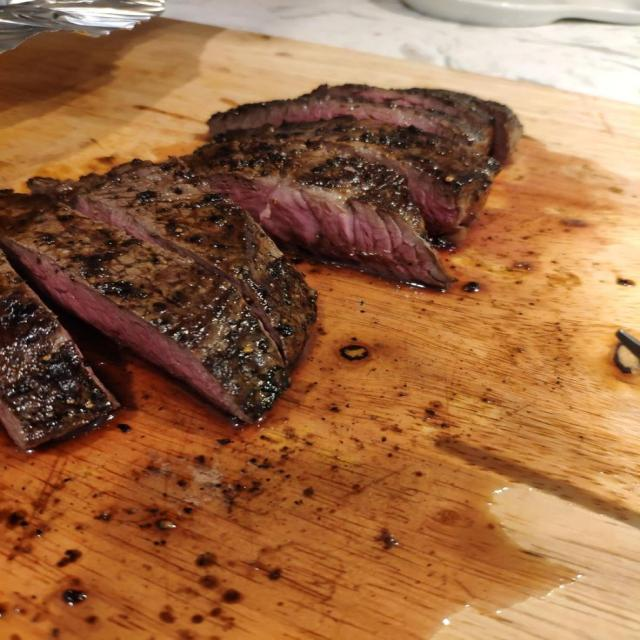beef steak: (0, 192, 288, 421), (30, 159, 316, 369), (183, 133, 454, 288), (214, 115, 500, 236), (209, 84, 522, 162), (0, 249, 118, 450), (312, 84, 521, 159)
